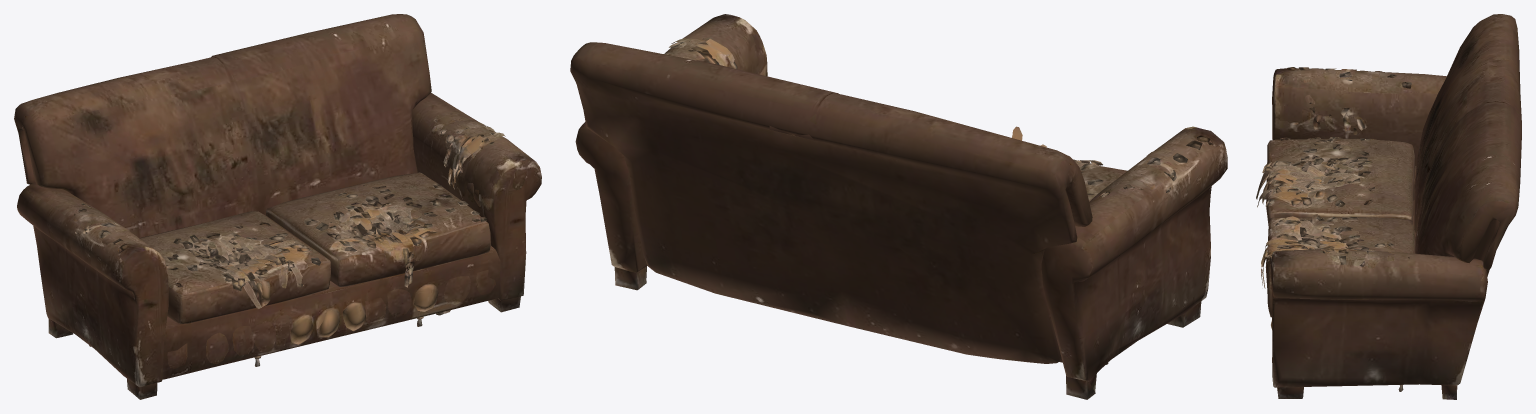
Rendered from sofa.glb.
The picture shows the model from 3 angles, left to right: view 1: azimuth 30°, elevation 25°; view 2: azimuth 150°, elevation 25°; view 3: azimuth 270°, elevation 25°; orthographic projection. The views are drawn at different scales.
Size of the model in its own units: 1 by 0.4886 by 0.5647.
Materials: 1 (1 with a texture image).
